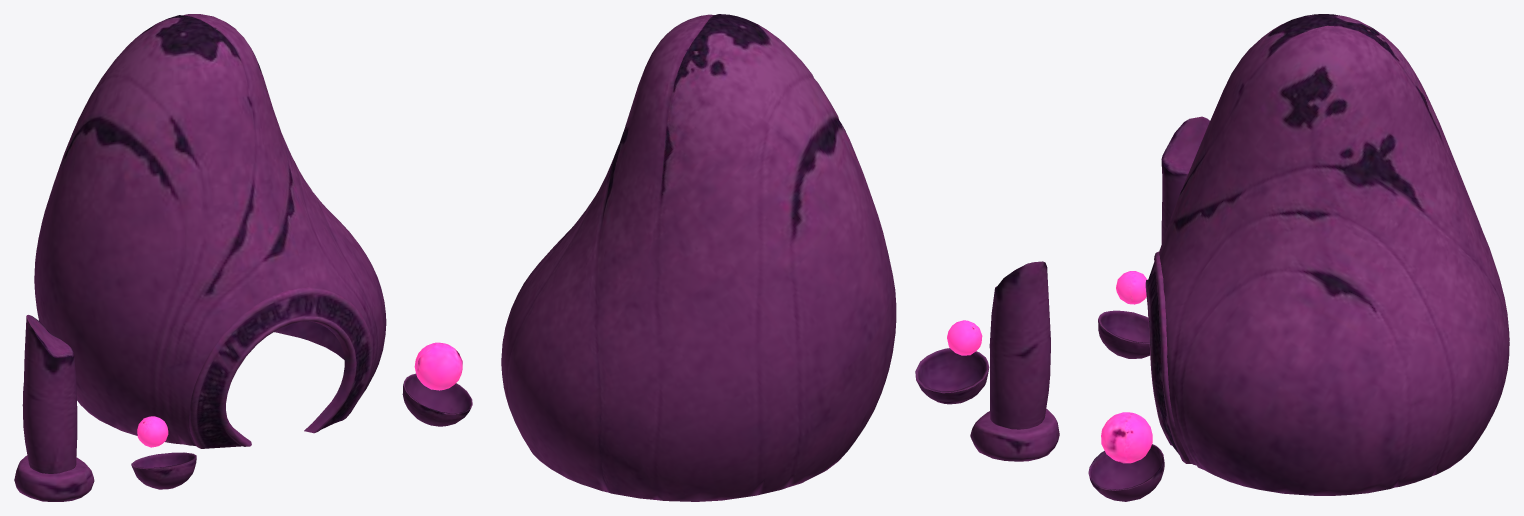
File: sky_hut_a_chaos_v35.glb
The picture shows the model from 3 angles, left to right: view 1: azimuth 30°, elevation 25°; view 2: azimuth 150°, elevation 25°; view 3: azimuth 270°, elevation 25°; orthographic projection. The views are drawn at different scales.
Parts seen in each view (by area): view 1: hut_a; view 2: hut_a; view 3: hut_a.
Part boxes in pixels (x1,y1,x2,y2): hut_a: (14,14,472,501); hut_a: (501,14,1059,501); hut_a: (1088,14,1509,501).
Size of the model in its own units: 8.7 by 7.36 by 7.06.
1 material, 1 textured.
